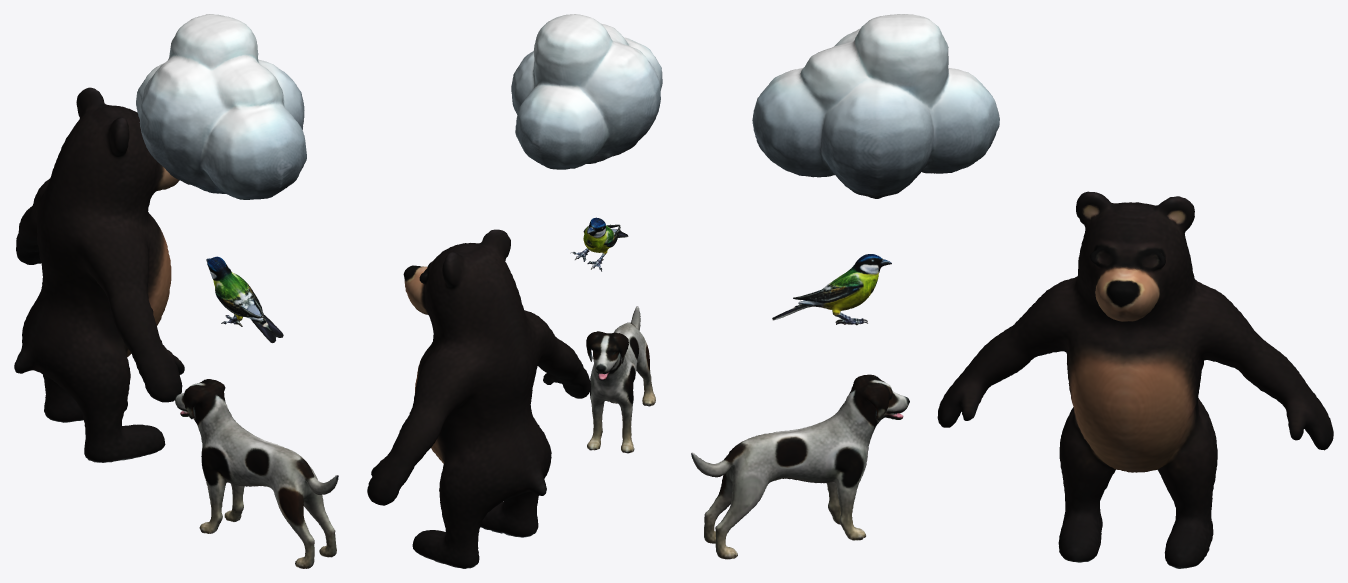
The model's file is bear2.glb.
3 renders of one model, left to right at view 1: azimuth 30°, elevation 25°; view 2: azimuth 150°, elevation 25°; view 3: azimuth 270°, elevation 25°, orthographic. The views are drawn at different scales.
Parts seen in each view (by area): view 1: Mesh_0.003, Mesh_0, Mesh_0.001, Mesh_0.002; view 2: Mesh_0.003, Mesh_0, Mesh_0.001, Mesh_0.002; view 3: Mesh_0.003, Mesh_0, Mesh_0.001, Mesh_0.002.
Boxes of the visible parts, bbox=[...] form: Mesh_0.003: bbox=[14, 87, 184, 462]; Mesh_0: bbox=[136, 14, 306, 199]; Mesh_0.001: bbox=[174, 379, 338, 568]; Mesh_0.002: bbox=[206, 256, 283, 343]; Mesh_0.003: bbox=[367, 229, 590, 568]; Mesh_0: bbox=[511, 14, 662, 169]; Mesh_0.001: bbox=[586, 306, 655, 453]; Mesh_0.002: bbox=[570, 217, 628, 271]; Mesh_0.003: bbox=[937, 191, 1333, 568]; Mesh_0: bbox=[752, 14, 999, 198]; Mesh_0.001: bbox=[691, 374, 909, 559]; Mesh_0.002: bbox=[772, 254, 891, 325].
Bounding box in the file's own units: 12.27 × 34.84 × 38.37.
Materials: 4 (4 with a texture image).
